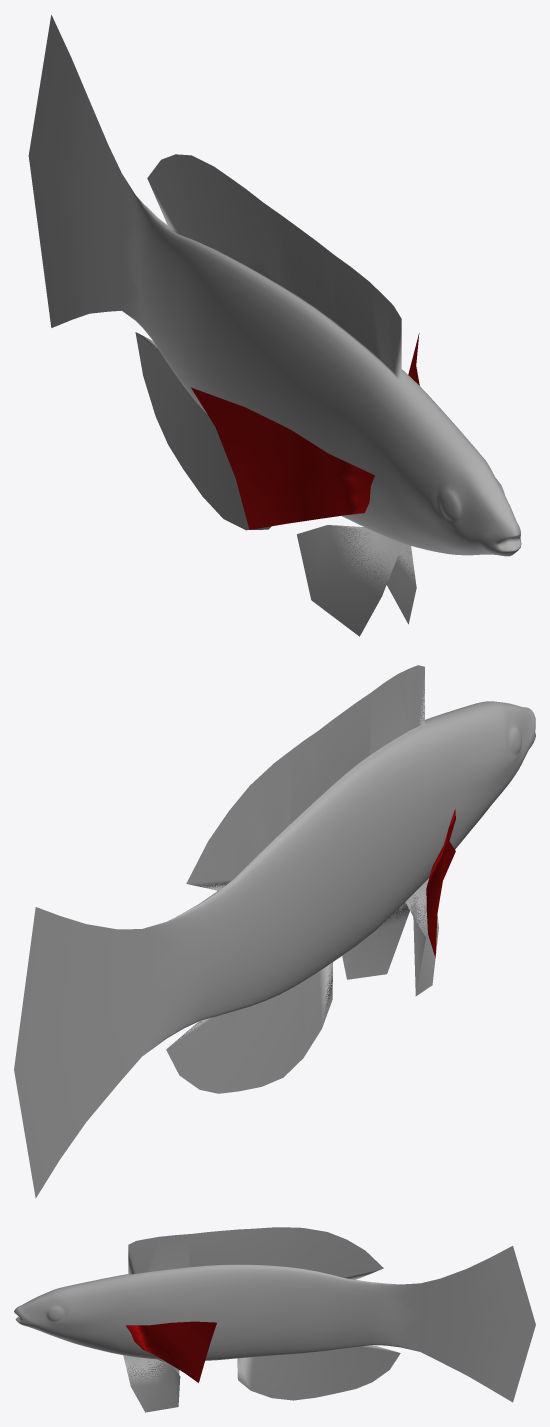
The model's file is Labridae_B.fbx.
3 views of the same model, one above another, from view 1: azimuth 30°, elevation 25°; view 2: azimuth 150°, elevation 25°; view 3: azimuth 270°, elevation 25° (orthographic). The views are drawn at different scales.
Visible parts, largest first — view 1: Labridae_B_LOD0; view 2: Labridae_B_LOD0; view 3: Labridae_B_LOD0.
Part boxes in pixels (left/top/right/bottom): Labridae_B_LOD0: left=28, top=15, right=521, bottom=636; Labridae_B_LOD0: left=14, top=665, right=535, bottom=1198; Labridae_B_LOD0: left=14, top=1227, right=535, bottom=1412.
Size of what is drawn, in the model's own units: 0.264 by 0.3888 by 1.04.
